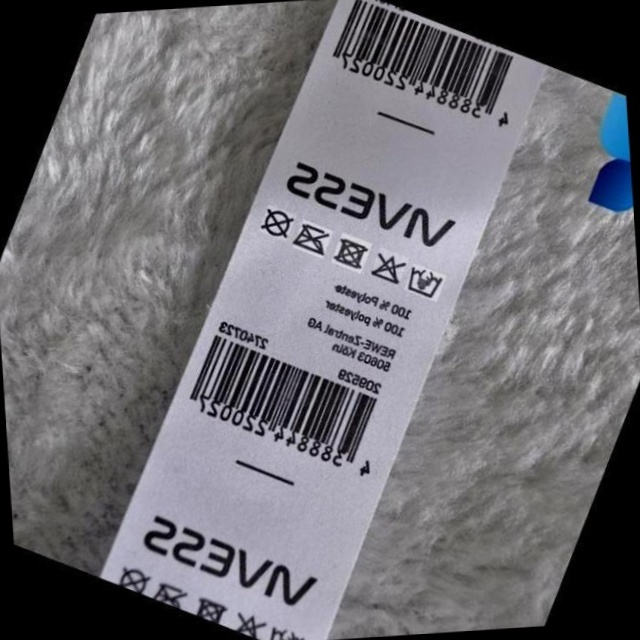DN_bleach: (366, 250, 404, 289)
DN_dry_clean: (259, 204, 295, 243)
DN_iron: (288, 220, 328, 260)
DN_tumble_dry: (332, 236, 368, 275)
hand_wash: (406, 261, 442, 300)
